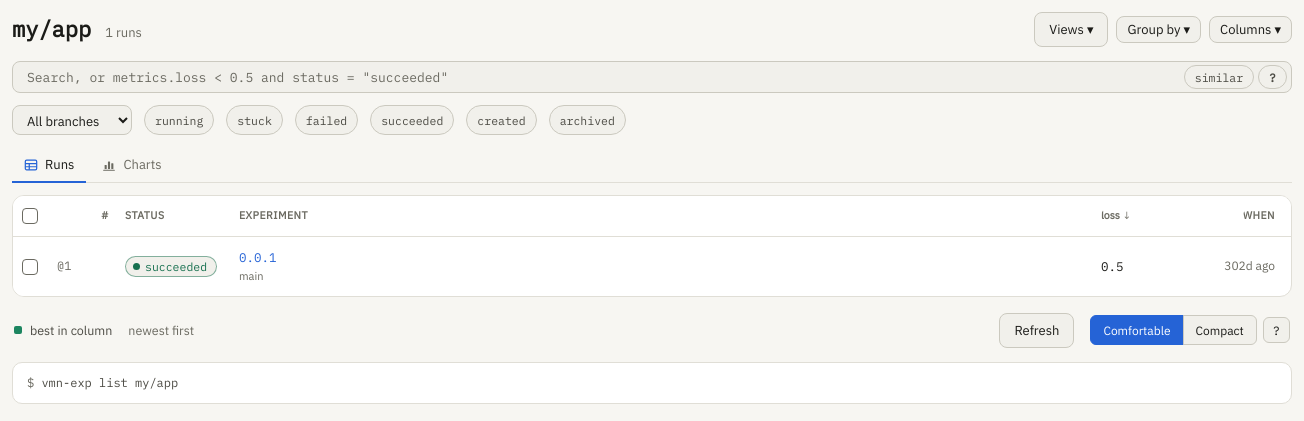
Test case: Leaderboard query box › stays usable when a query matches nothing
Expected: the link "0.0.1" is shown, [239, 248, 276, 267]
Type "metrics.loss < 0" into the field with placeholder "Search, or metrics.loss < 0.5 and status = \"succeeded\"".
click(600, 77); type("metrics.loss < 0")  # box [21, 65, 1180, 89]
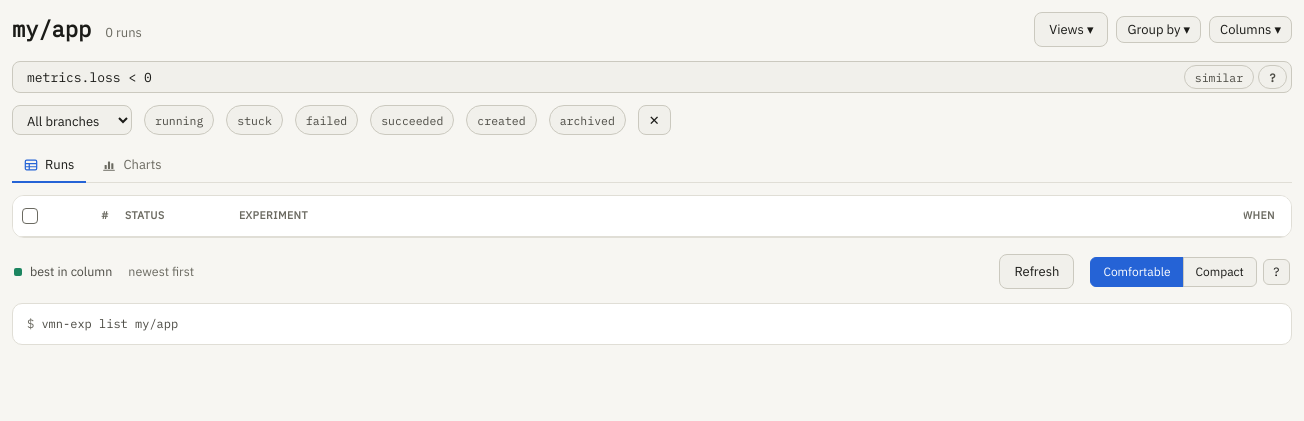
Now the link "0.0.1" is gone
